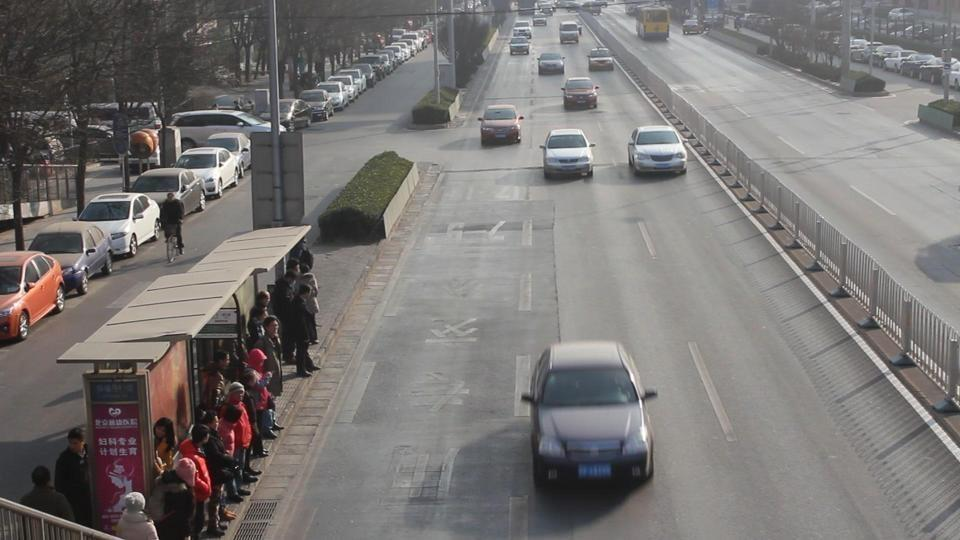car: (519, 338, 659, 487), (26, 222, 113, 295), (0, 249, 67, 343), (75, 193, 162, 260), (128, 167, 207, 217), (174, 147, 239, 199), (626, 125, 687, 177), (541, 127, 596, 180), (204, 130, 253, 177), (479, 102, 525, 146), (561, 77, 599, 110), (319, 77, 354, 108), (898, 53, 941, 78), (299, 89, 334, 119), (333, 67, 367, 96), (536, 50, 566, 75), (587, 47, 615, 72), (509, 26, 532, 55), (559, 21, 581, 44), (682, 19, 705, 35)
